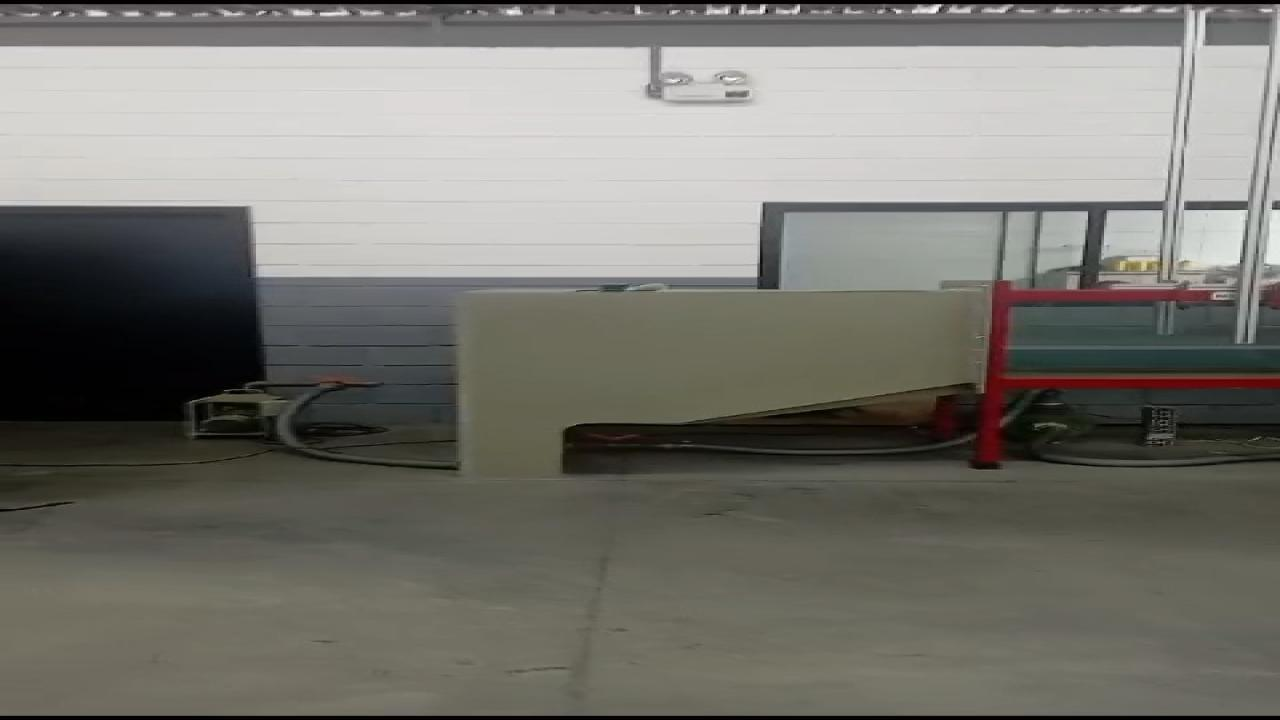Cube: (599, 284, 629, 292)
